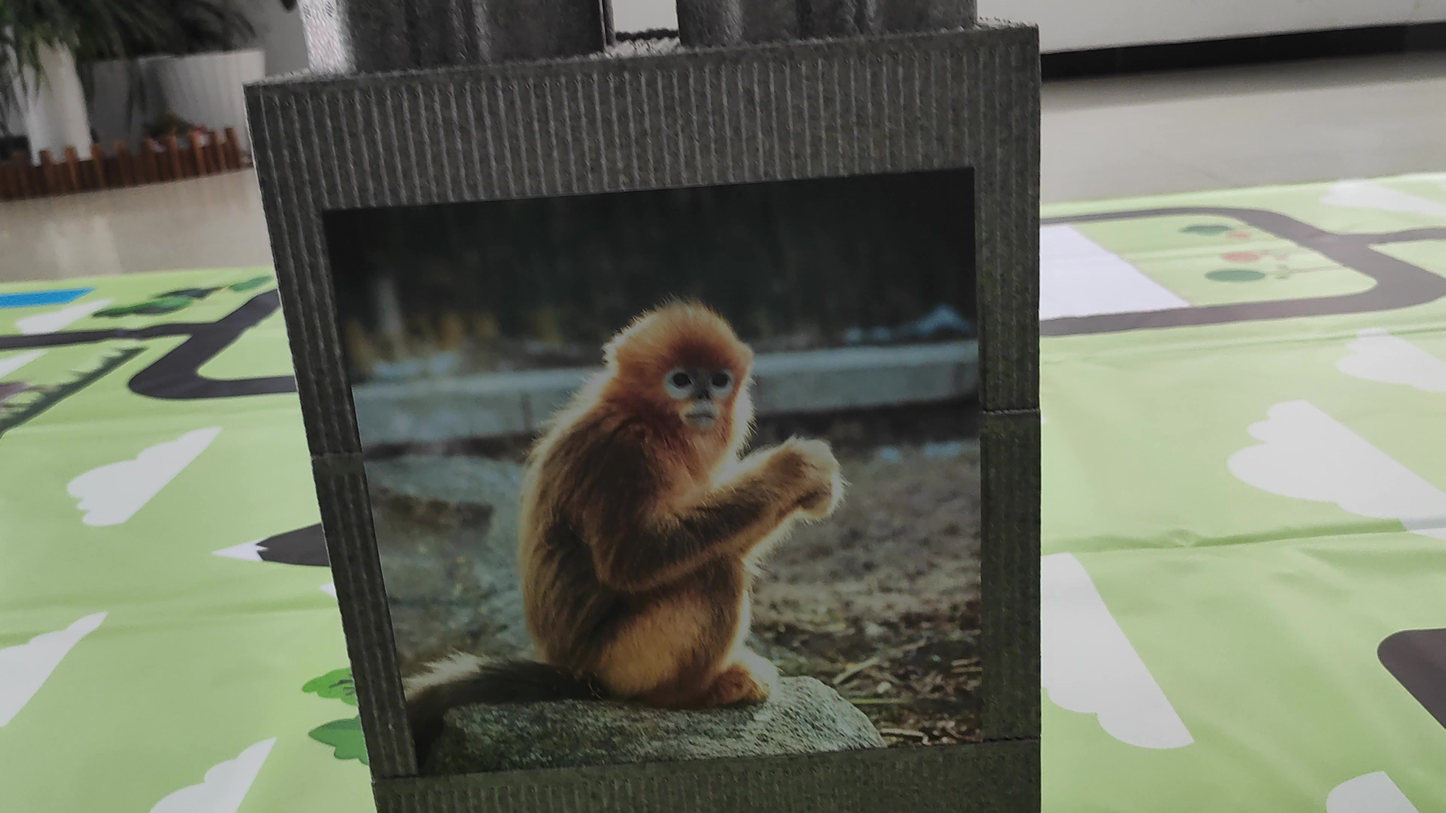monkey: (401, 248, 852, 745)
